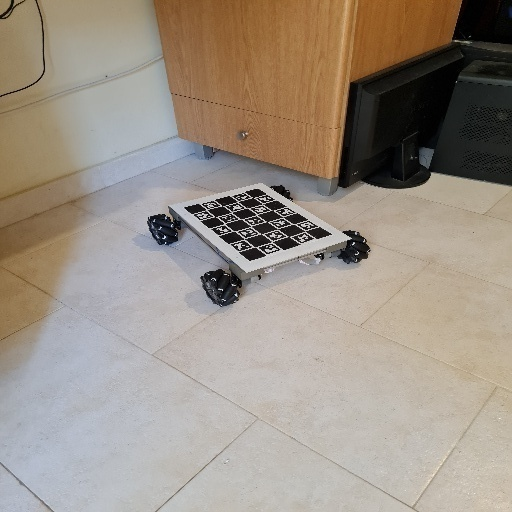Omniwheel: (147, 181, 374, 309)
